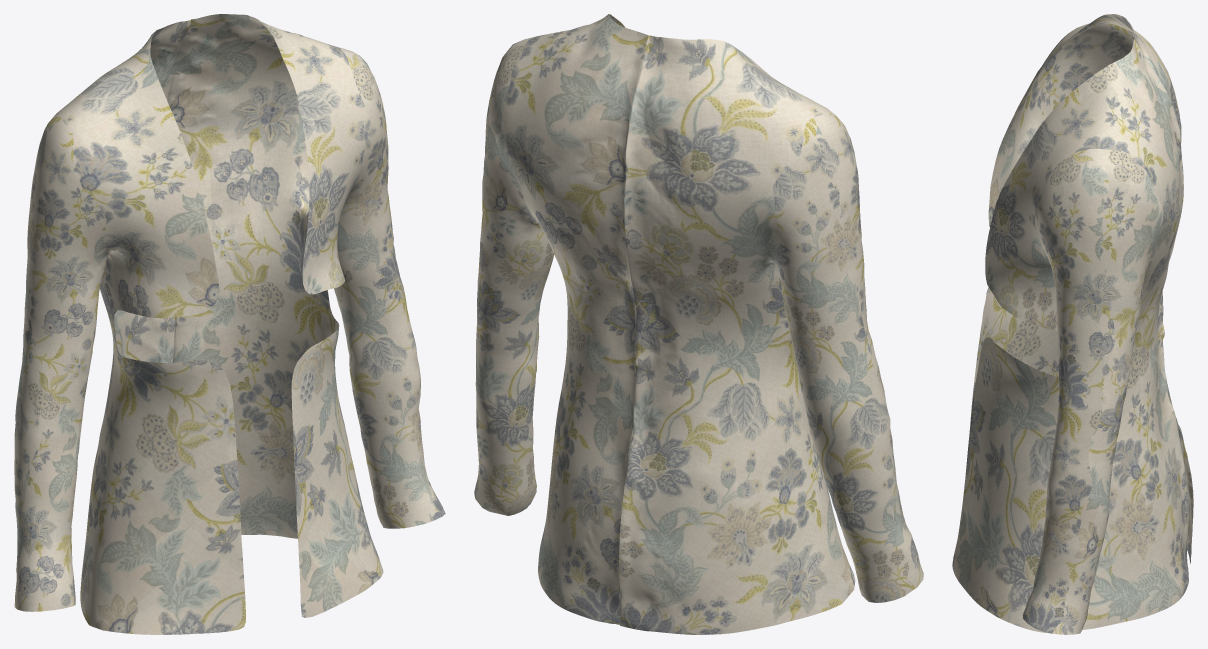
Rendered from full_lining_centre_vent.glb.
3 views of the same model, side by side, from view 1: azimuth 30°, elevation 25°; view 2: azimuth 150°, elevation 25°; view 3: azimuth 270°, elevation 25° (orthographic). The views are drawn at different scales.
Parts seen in each view (by area): view 1: lining_centre_vent.002; view 2: lining_centre_vent.002; view 3: lining_centre_vent.002.
Boxes of the visible parts, x1=… form: lining_centre_vent.002: x1=14, y1=14, x2=445, y2=634; lining_centre_vent.002: x1=474, y1=14, x2=923, y2=634; lining_centre_vent.002: x1=952, y1=14, x2=1193, y2=634.
Bounding box in the file's own units: 59.96 × 74.62 × 30.51.
Materials: 1 (1 with a texture image).
